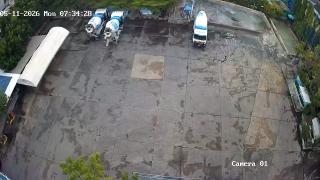cement_mixer_truck: (190, 8, 210, 50), (85, 9, 108, 40), (104, 9, 124, 43)
